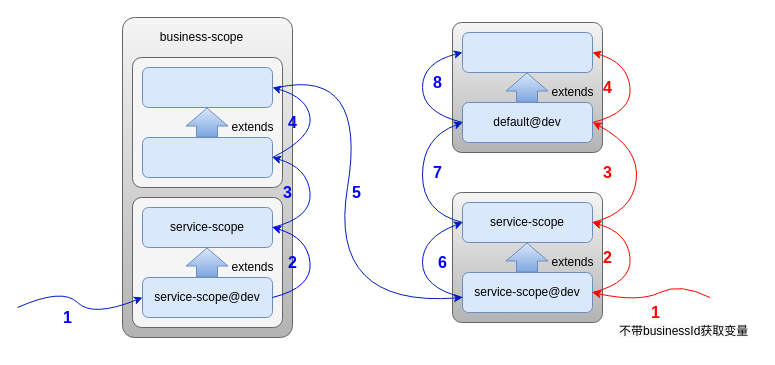
Image size: 775x365. Some labels were removed from this diagram. Each missing label, with the box of its shape:
default: (462, 32, 592, 72)
default-scope: (142, 66, 272, 108)
default-scope@dev: (142, 136, 272, 178)
